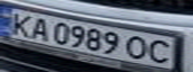0: (48, 19, 72, 46)
8: (84, 26, 106, 53)
9: (100, 29, 124, 56), (66, 24, 87, 49)
A: (24, 16, 54, 42)
C: (145, 37, 178, 65)
K: (3, 11, 36, 36)
O: (124, 34, 151, 61)
